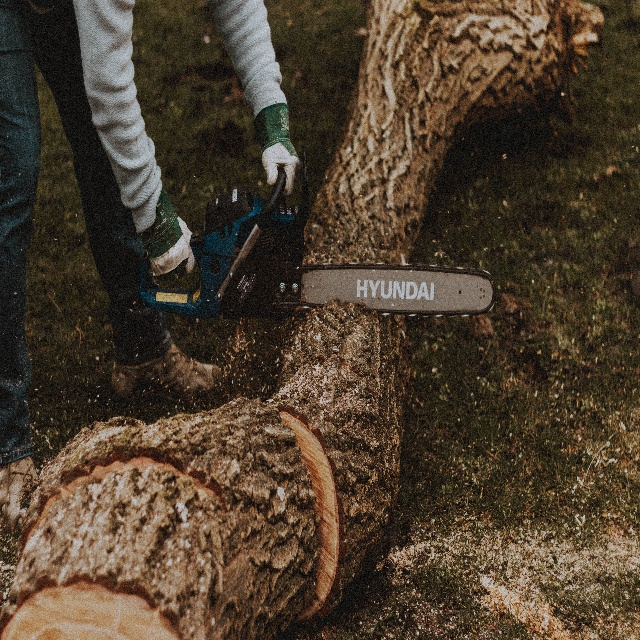Guantes: (149, 197, 194, 286), (259, 110, 300, 196)
